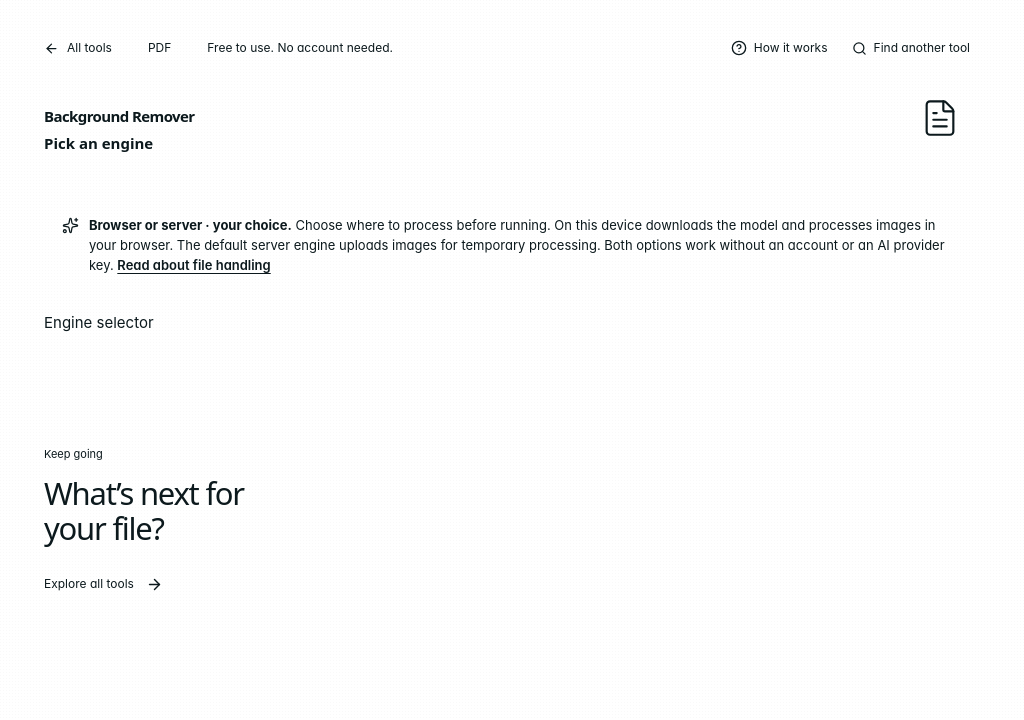
Scenario: where the file goes › gives Background Remover the choice its engine picker offers, not just the server's
Expected: the text "Browser or server · your choice." is shown, x1=89 y1=217 x2=292 y2=233
What coordinates should you click on to do the following:
click the button "How it works"
I would click on:
 (779, 48)
Its box is x1=721 y1=30 x2=838 y2=66.
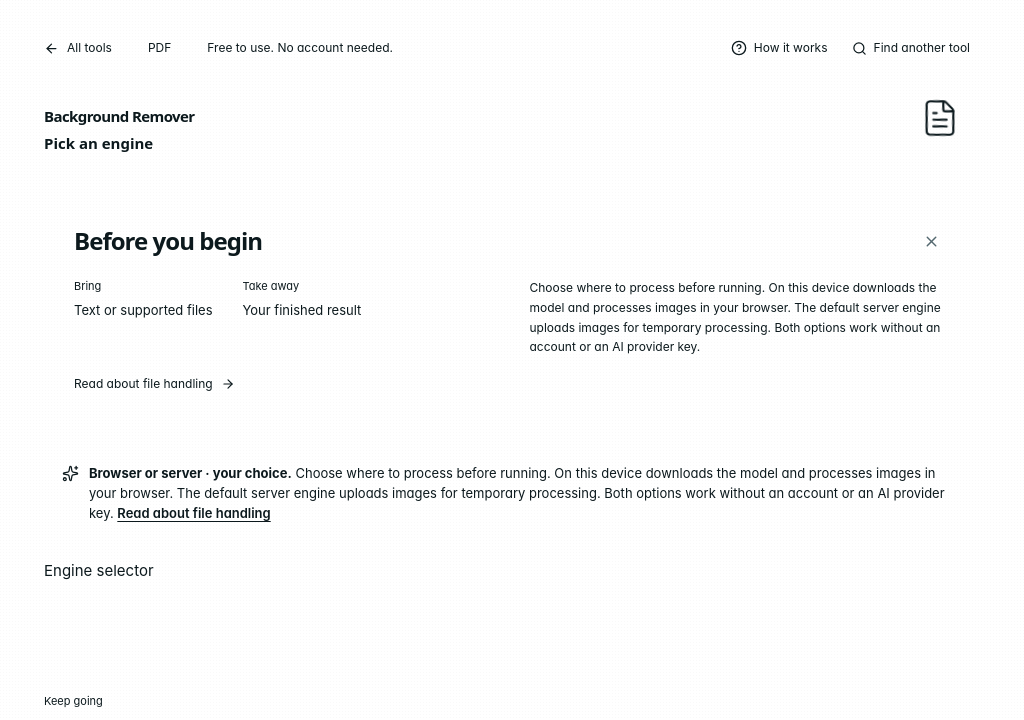
Expected: the text "Both options work without an account or an AI provider key" is shown, x1=530 y1=280 x2=941 y2=354
